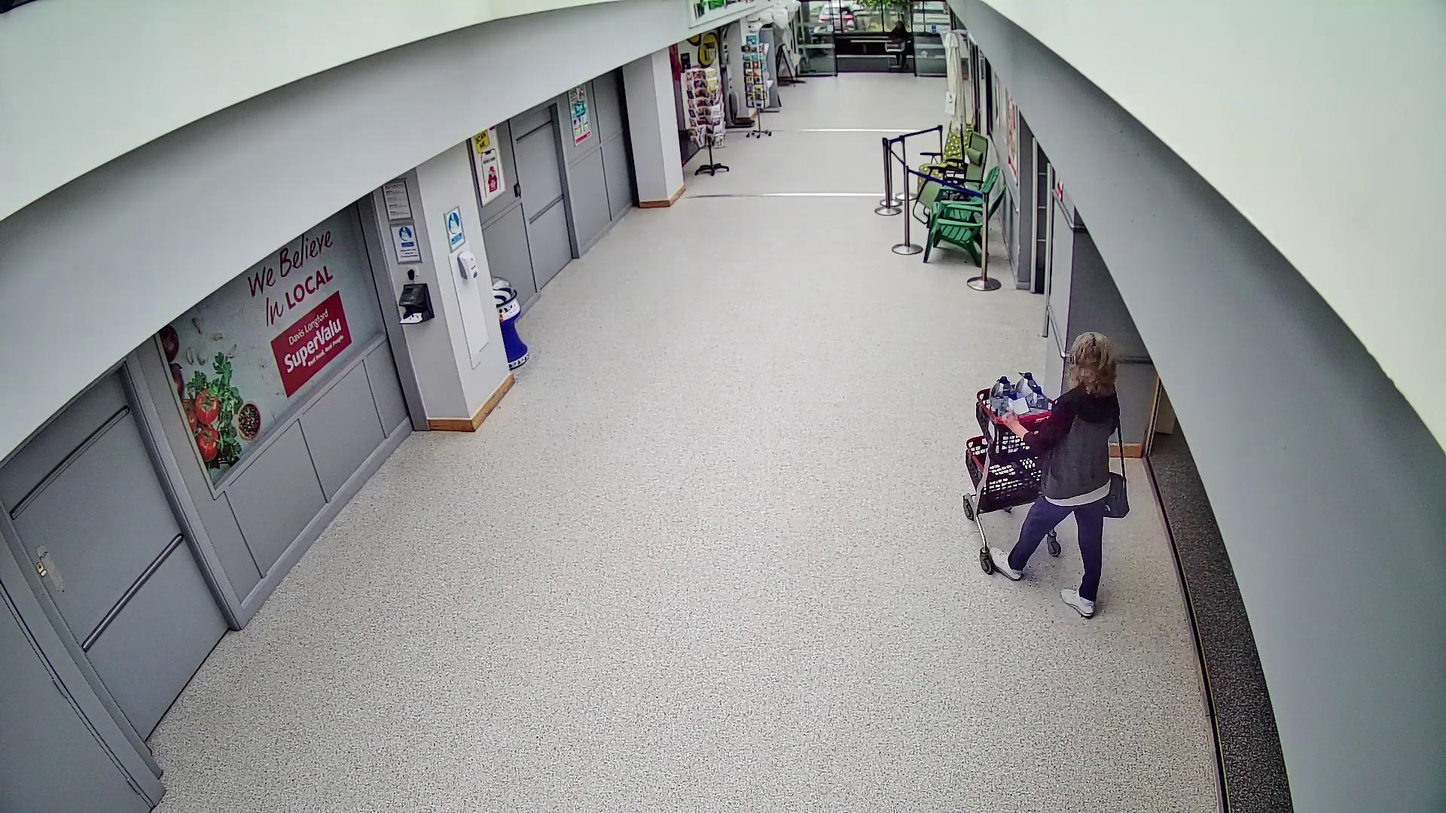backpack-or-handbag: (1104, 470, 1130, 521)
filled-trolly: (964, 371, 1061, 574)
person: (991, 330, 1120, 620)
person-with-basket-trolly-and-backpack-handbag: (965, 332, 1130, 618)
